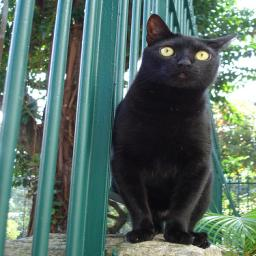catnose: (176, 58, 194, 70)
